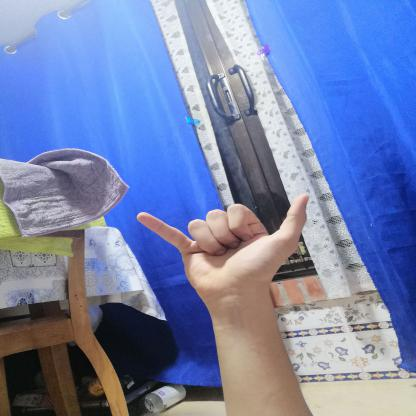YA: (123, 185, 334, 316)
